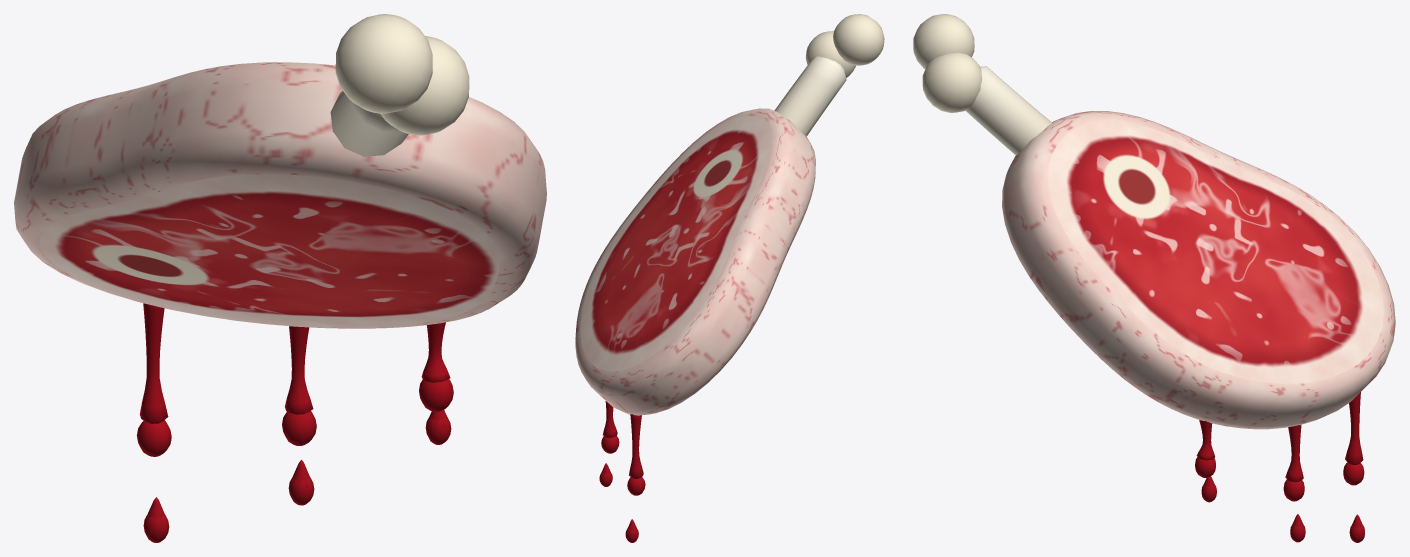
Rendered from RawSteak.glb.
The picture shows the model from 3 angles, left to right: view 1: azimuth 30°, elevation 25°; view 2: azimuth 150°, elevation 25°; view 3: azimuth 270°, elevation 25°; orthographic projection. The views are drawn at different scales.
Visible parts, largest first — view 1: RawSteak; view 2: RawSteak; view 3: RawSteak.
Boxes of the visible parts, left/top/right/bottom form: RawSteak: left=14, top=14, right=546, bottom=542; RawSteak: left=575, top=14, right=884, bottom=542; RawSteak: left=913, top=14, right=1395, bottom=542.
Size of the model in its own units: 0.7667 by 1.49 by 1.31.
1 material, 1 textured.
